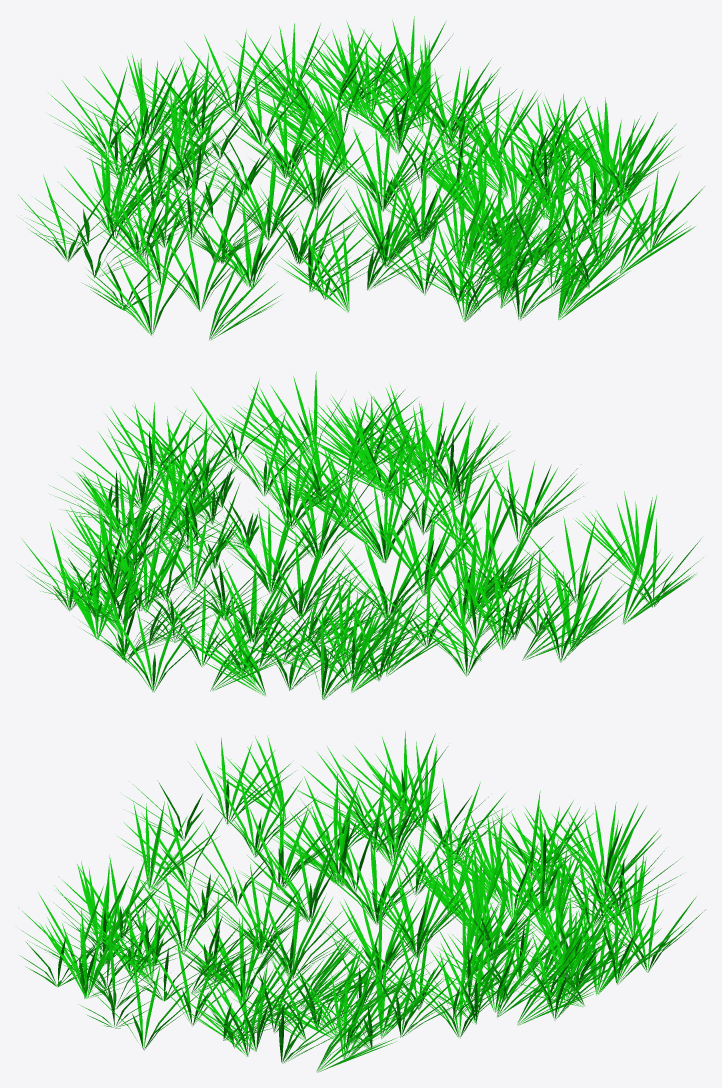
File: Grass-a.obj
The picture shows the model from 3 angles, top to bottom: view 1: azimuth 30°, elevation 25°; view 2: azimuth 150°, elevation 25°; view 3: azimuth 270°, elevation 25°; orthographic projection.
Visible parts, largest first — view 1: Mesh106, Mesh107, Mesh105; view 2: Mesh106, Mesh107, Mesh105; view 3: Mesh106, Mesh107, Mesh105.
Boxes of the visible parts, x1,y1,x2,y2 form: Mesh106: (34, 43, 686, 327); Mesh107: (18, 16, 704, 316); Mesh105: (53, 72, 666, 340); Mesh106: (34, 400, 688, 685); Mesh107: (21, 371, 703, 674); Mesh105: (54, 430, 666, 699); Mesh106: (31, 758, 685, 1061); Mesh107: (18, 731, 705, 1050); Mesh105: (45, 787, 664, 1072).
Bounding box in the file's own units: 0.6696 × 0.105 × 0.6671.
